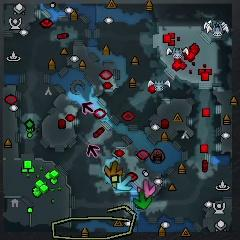x1: (137, 179, 156, 198)
x1Clone: (86, 143, 100, 157), (81, 101, 94, 114)
x2: (112, 182, 117, 189)
x3: (116, 176, 132, 191)
x4: (134, 191, 151, 209)
x5: (104, 161, 123, 178)
